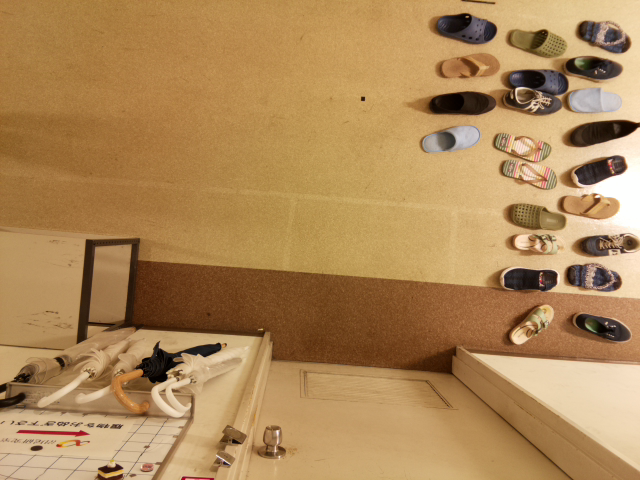Copy of Copy of Copy of Copy of Copy of Copy of Copy of Copy of Copy of Copy of: (422, 85, 500, 119), (432, 46, 502, 82), (490, 129, 557, 164), (502, 199, 569, 234), (502, 226, 569, 261), (575, 16, 638, 53), (502, 63, 568, 98), (498, 82, 564, 117), (494, 157, 560, 192), (418, 121, 484, 156), (505, 26, 568, 62), (431, 9, 502, 40)
Copy of Copy of Copy of Copy of Copy of Copy of Copy of Copy of Copy of shoe: (561, 52, 624, 83)
Copy of Copy of Copy of Copy of Copy of Copy of Copy of Copy of shoe: (565, 85, 628, 116)
Copy of Copy of Copy of Copy of Copy of Copy of Copy of shoe: (565, 118, 639, 148)
Copy of Copy of Copy of Copy of Copy of Copy of shoe: (565, 153, 630, 188)
Copy of Copy of Copy of Copy of Copy of shoe: (556, 187, 622, 222)
Copy of Copy of Copy of Copy of shoe: (574, 226, 640, 261)
Copy of Copy of Copy of shoe: (562, 259, 627, 294)
Copy of Copy of shoe: (497, 262, 563, 293)
Copy of shoe: (505, 300, 558, 345)
shoe: (568, 310, 635, 349)
